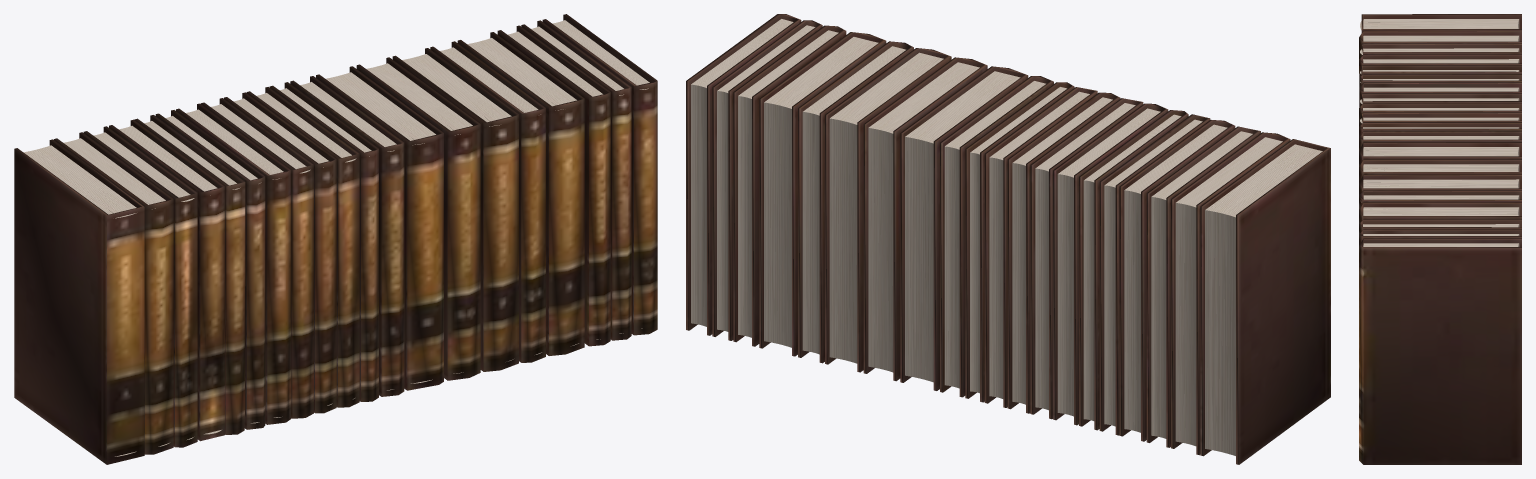
The model's file is book_encyclopedia_set_01.glb.
3 renders of one model, left to right at view 1: azimuth 30°, elevation 25°; view 2: azimuth 150°, elevation 25°; view 3: azimuth 270°, elevation 25°, orthographic. The views are drawn at different scales.
Parts seen in each view (by area): view 1: book_encyclopedia_set_01_book01; view 2: book_encyclopedia_set_01_book01; view 3: book_encyclopedia_set_01_book01.
Part boxes in pixels (<box>): book_encyclopedia_set_01_book01: <box>14,14,657,464</box>; book_encyclopedia_set_01_book01: <box>686,14,1330,464</box>; book_encyclopedia_set_01_book01: <box>1359,14,1521,464</box>.
Bounding box in the file's own units: 0.5513 × 0.2374 × 0.1619.
Materials: 2 (2 with a texture image).
